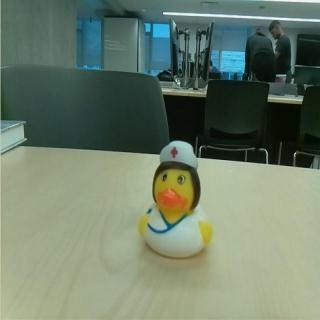duck_specialty: (138, 139, 215, 259)
